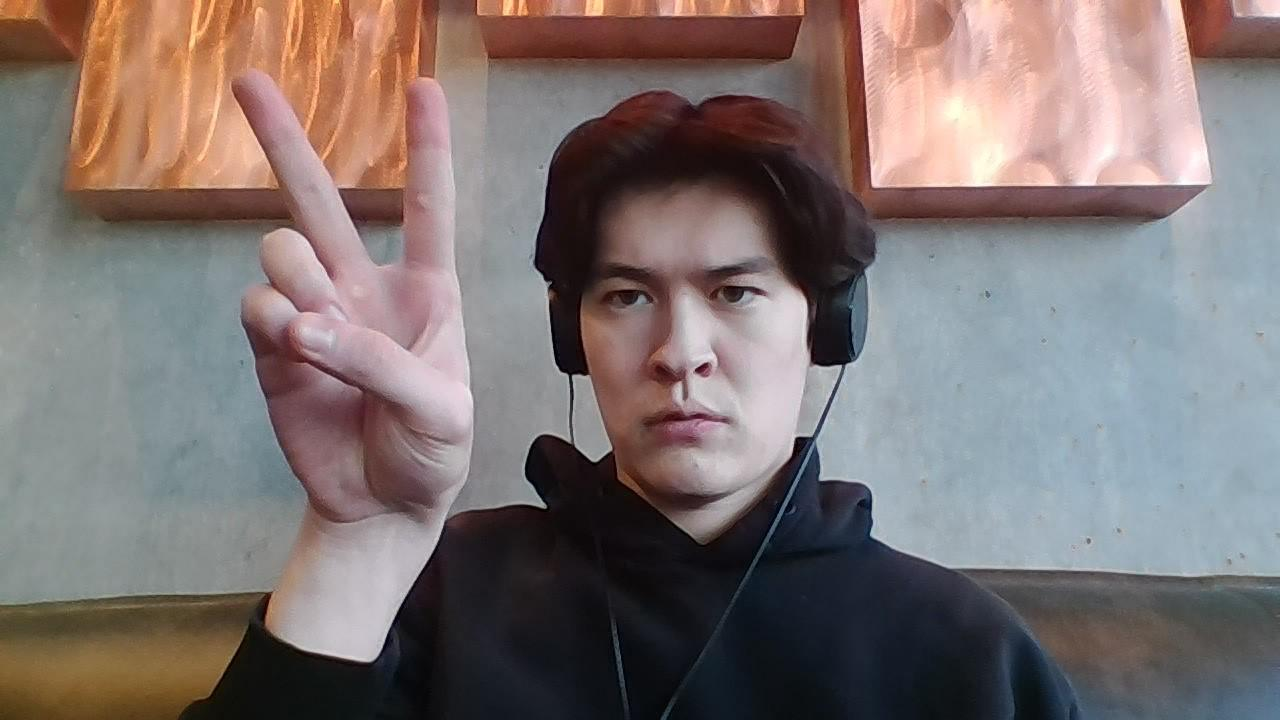peace: (231, 66, 479, 522)
